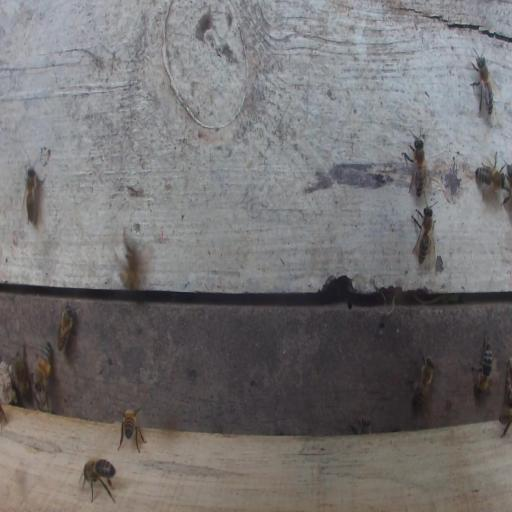nonpollenbee: (411, 195, 440, 264), (403, 134, 432, 199), (79, 457, 116, 503), (470, 50, 495, 117), (474, 151, 507, 196), (117, 406, 147, 454), (409, 355, 435, 409), (471, 333, 492, 394), (22, 165, 42, 226), (57, 302, 76, 352), (12, 349, 30, 398), (350, 410, 373, 435), (499, 408, 512, 437)
pollenbee: (33, 340, 53, 392)
